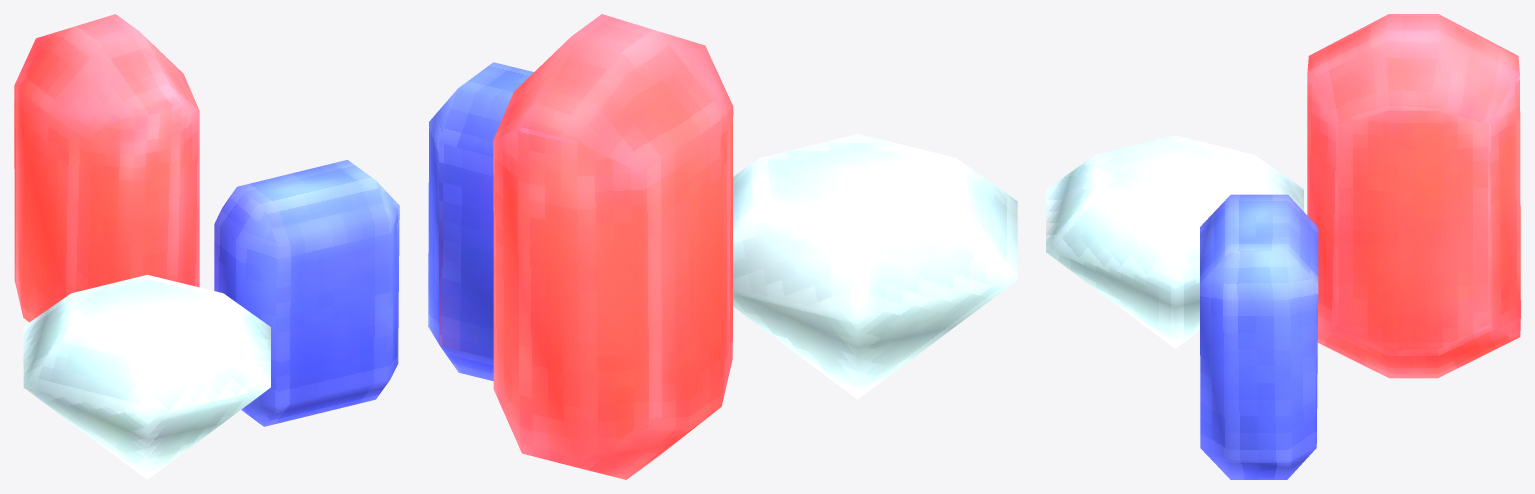
The model's file is Gems.glb.
3 views of the same model, side by side, from view 1: azimuth 30°, elevation 25°; view 2: azimuth 150°, elevation 25°; view 3: azimuth 270°, elevation 25° (orthographic). The views are drawn at different scales.
Parts seen in each view (by area): view 1: low; view 2: low; view 3: low.
Boxes of the visible parts, box(x1,y1,x2,y2) form: low: box(14, 14, 399, 479); low: box(428, 14, 1017, 479); low: box(1046, 14, 1520, 479).
Bounding box in the file's own units: 3.72 × 3.11 × 3.65.
Materials: 1 (1 with a texture image).
